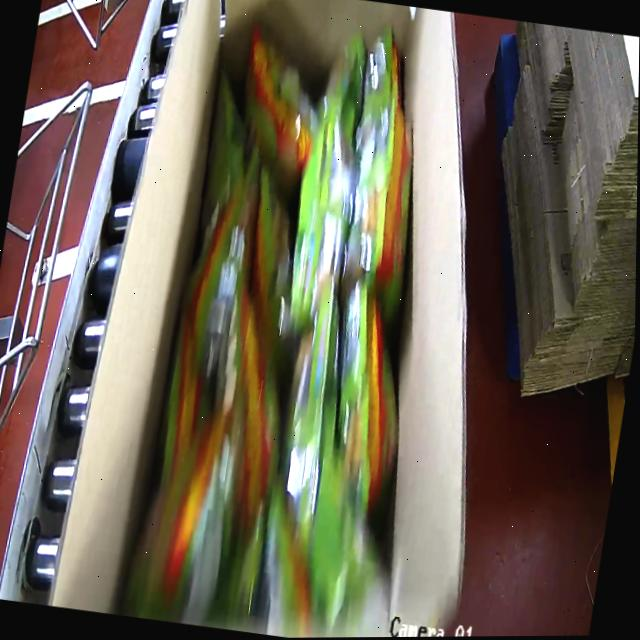YOGURT_HERB: (107, 7, 439, 639)
